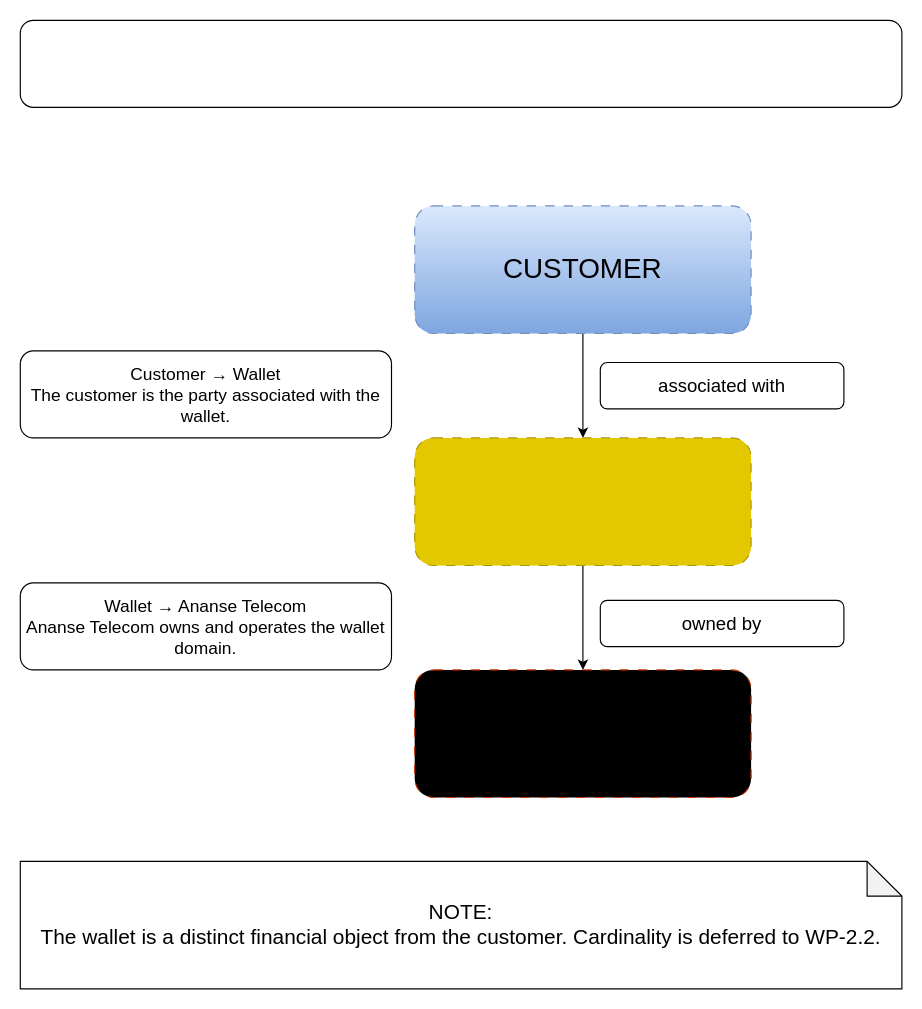
This 922x1009 diagram has some shape labels left out. Here are the shapes that lost their labels. From the top down, the centre of each, then its label:
the point at 460,63: WALLET RELATIONSHIPS
the point at 582,501: WALLET
